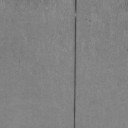surface scratch: (73, 2, 77, 128)
